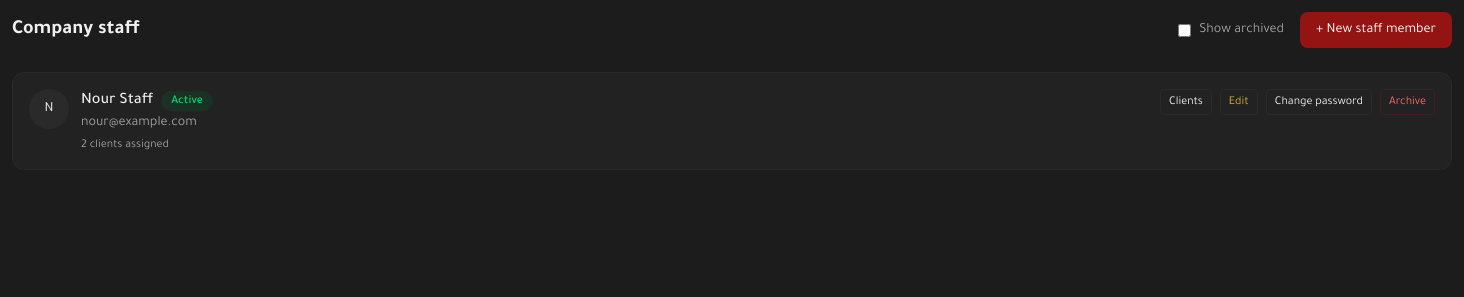
Test: StaffPage › asks for archived members only when the toggle is on
This screenshot has width=1464, height=297.
Expected: the text "Nour Staff" is shown, [81,89,153,113]
Expected: the text "Old Timer" is not shown
What coordinates should you click on to do the following:
click the checkbox labelled "Show archived"
I would click on:
 (1185, 30)
Its box is [1178,24,1191,36].
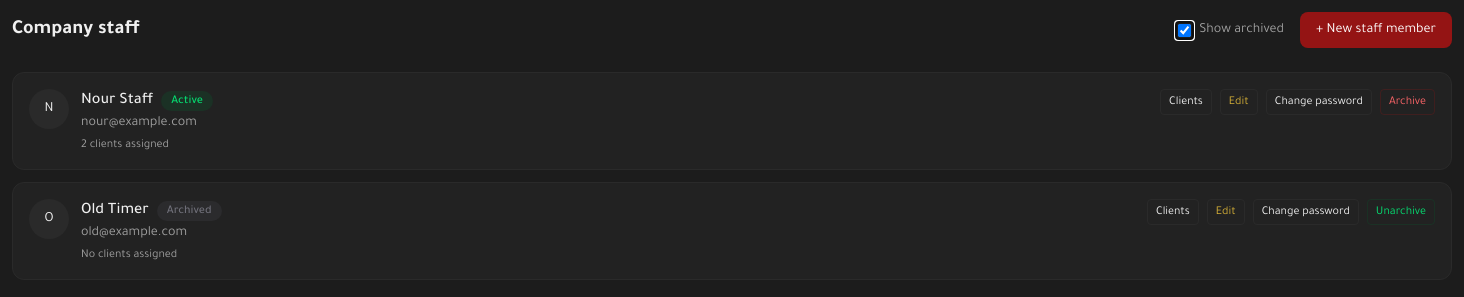
Now the text "Old Timer" is shown, box [81,199,149,223]
Now the button "Unarchive" is shown, box [1367,199,1435,225]
